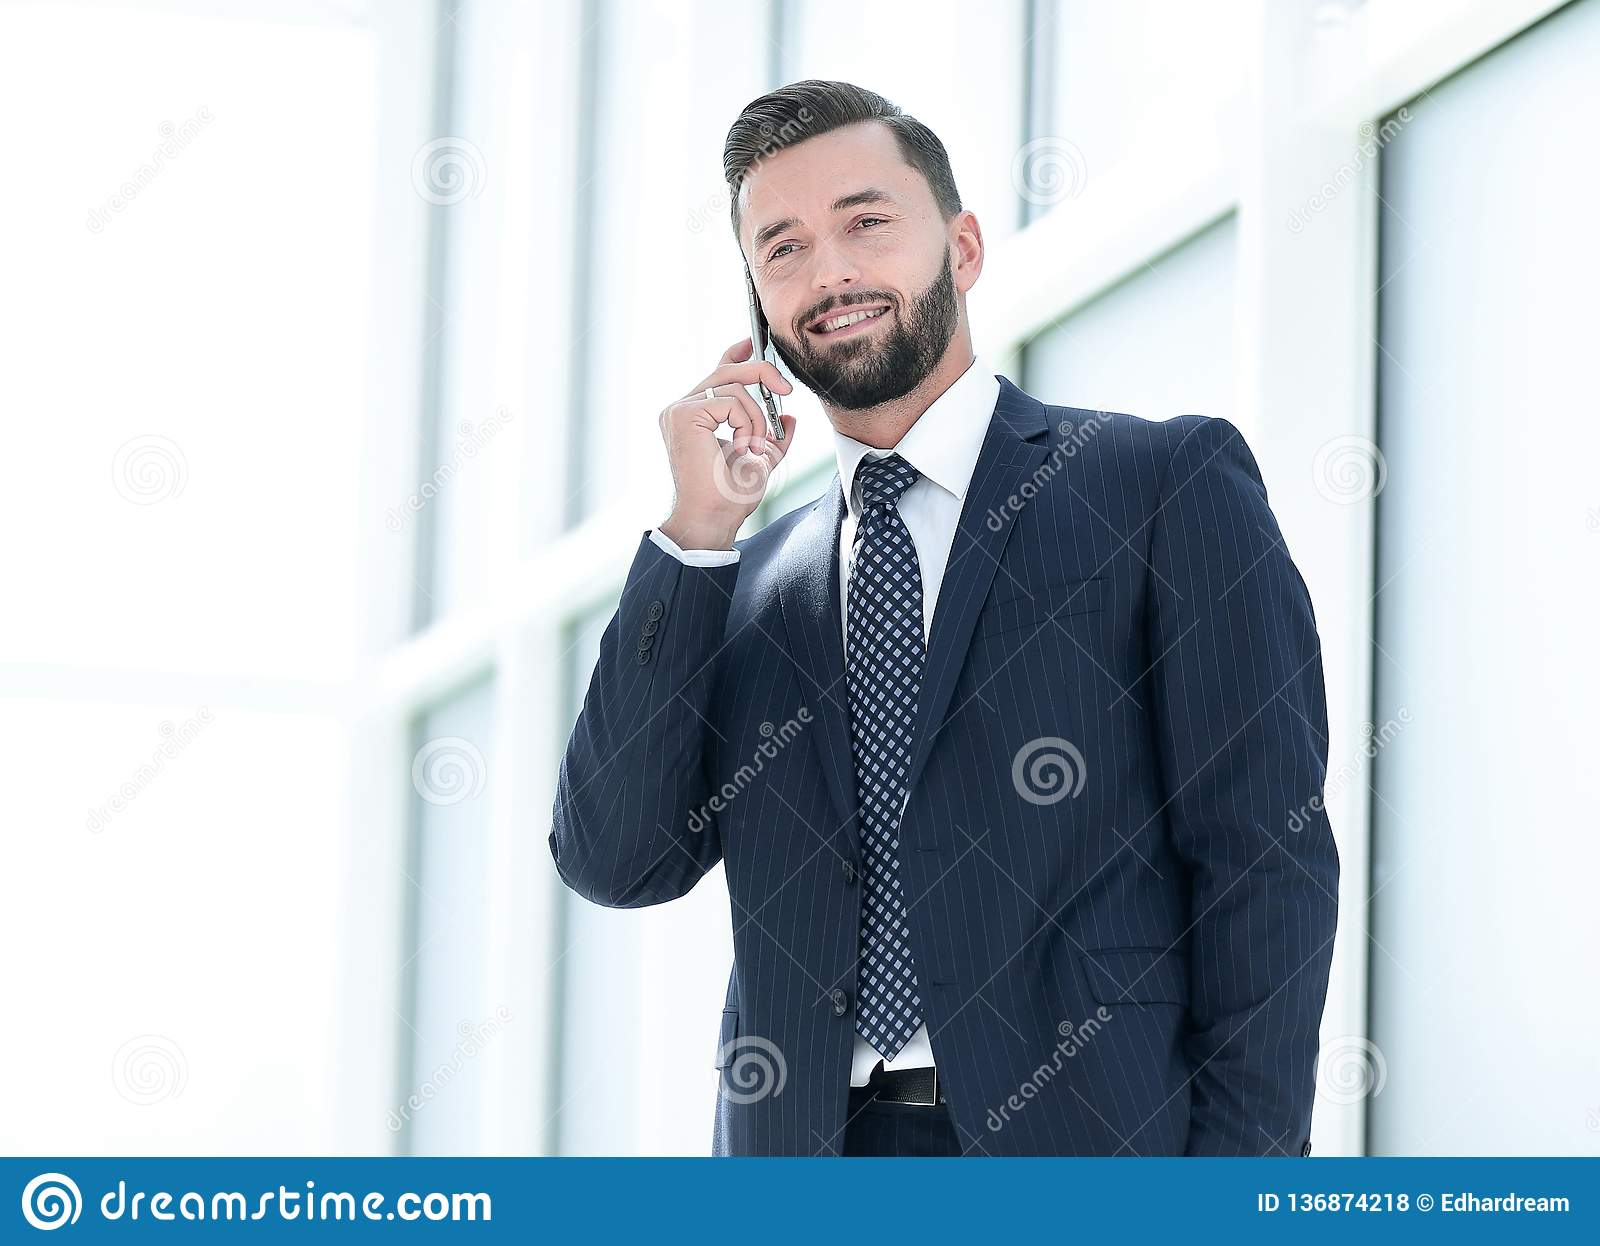phone: (732, 256, 790, 435)
talk: (660, 181, 926, 544)
